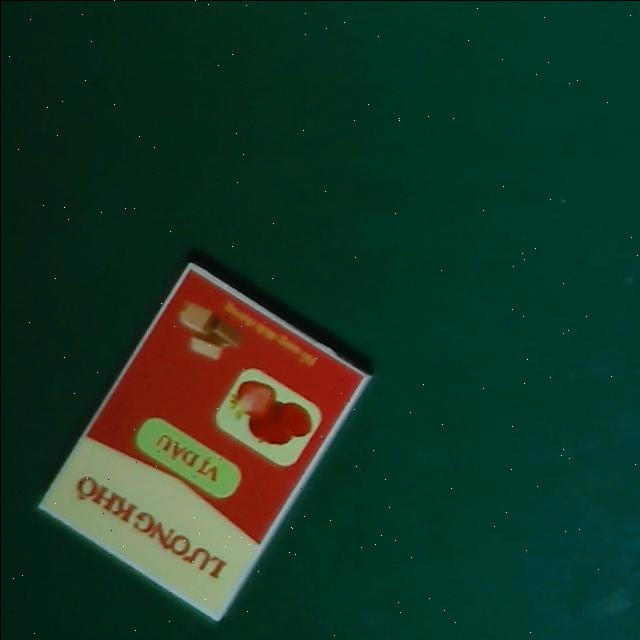dau: (34, 260, 373, 622)
